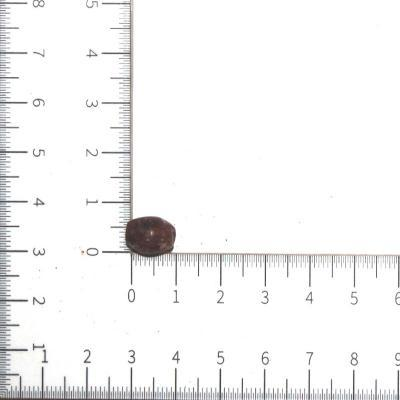archeology: (125, 216, 177, 259)
